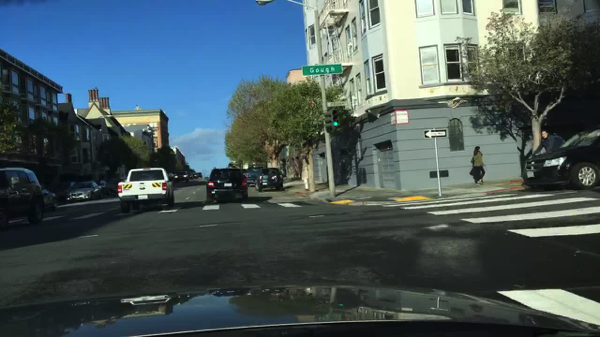car: (522, 126, 599, 189), (1, 166, 48, 230), (206, 166, 250, 203), (66, 180, 103, 203), (255, 166, 284, 192), (245, 163, 264, 182), (43, 191, 59, 210), (108, 176, 122, 195), (176, 170, 191, 182), (98, 180, 109, 195), (169, 173, 177, 183), (191, 173, 199, 179)
person: (469, 142, 484, 185)
rider: (528, 131, 564, 155)
traffic light: (330, 108, 339, 129), (325, 110, 330, 131)
traffic sign: (302, 65, 342, 74), (424, 130, 445, 137)
truck: (116, 167, 174, 214)
